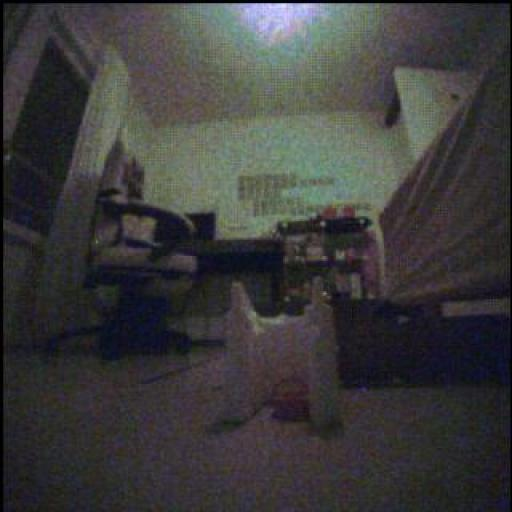basket: (270, 374, 316, 421)
